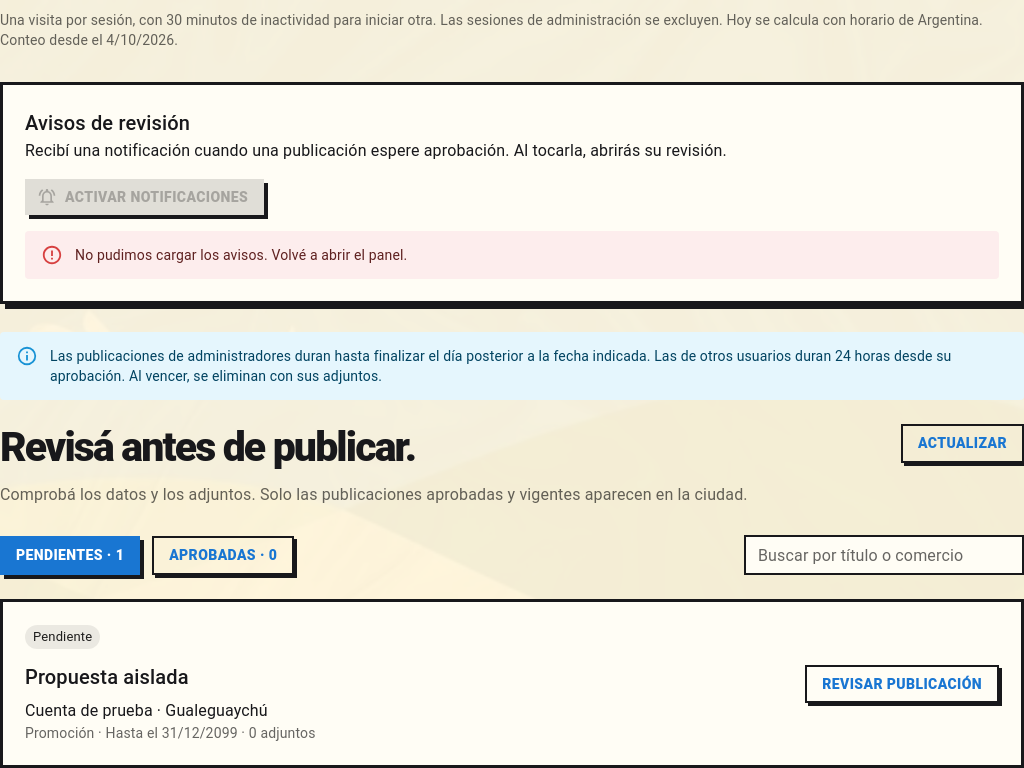
Test: reviews details before approval and updates pending and approved lists
(page scrolled)
Click the button "Revisar publicación" at (902, 684), box left=805, top=664, right=999, bottom=703
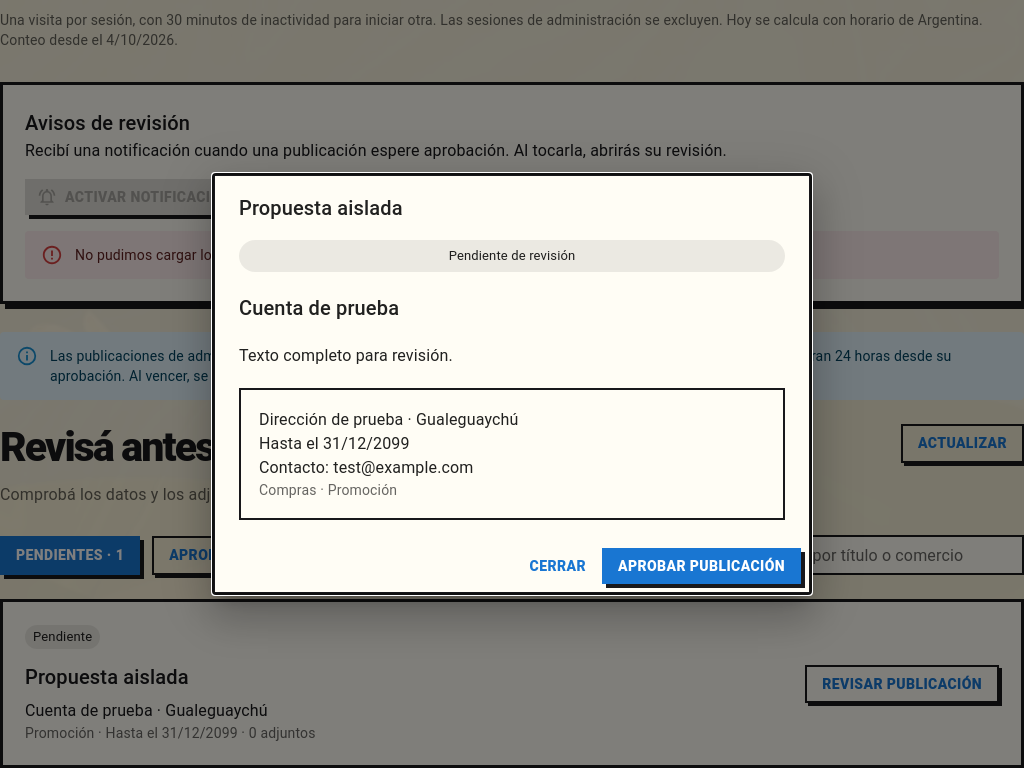
Result: the text "Texto completo para revisión." is shown at left=239, top=346, right=453, bottom=365
Result: the text "Contacto: test@example.com" is shown at left=259, top=458, right=474, bottom=477
Click the button "Aprobar publicación" at (702, 566), box left=602, top=548, right=801, bottom=584
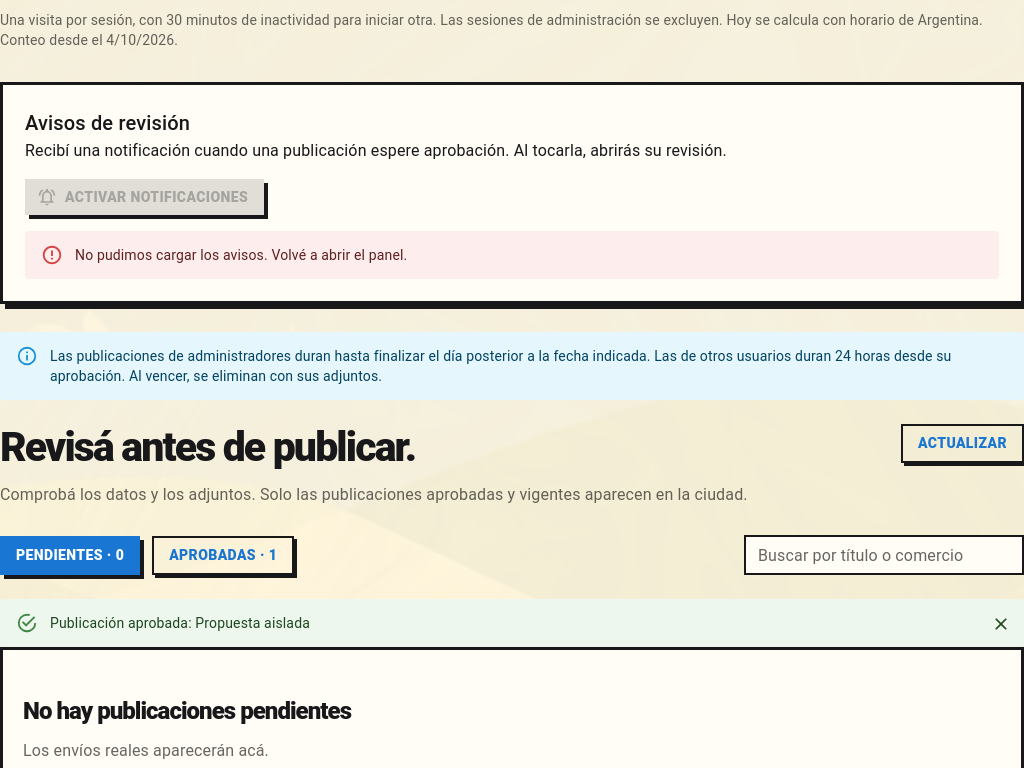
Result: the heading "No hay publicaciones pendientes" is shown at left=23, top=697, right=351, bottom=725
Click the button "Aprobadas · 1" at (223, 555), box left=152, top=536, right=294, bottom=575
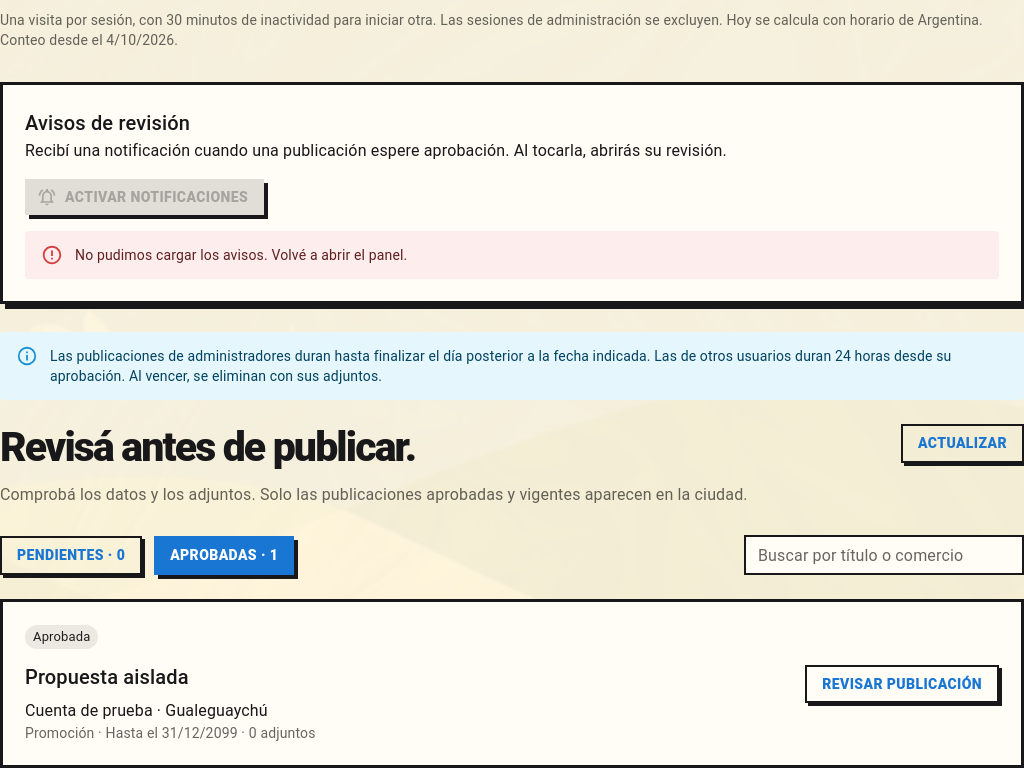
Result: the button "Revisar publicación" is shown at left=805, top=664, right=999, bottom=703
